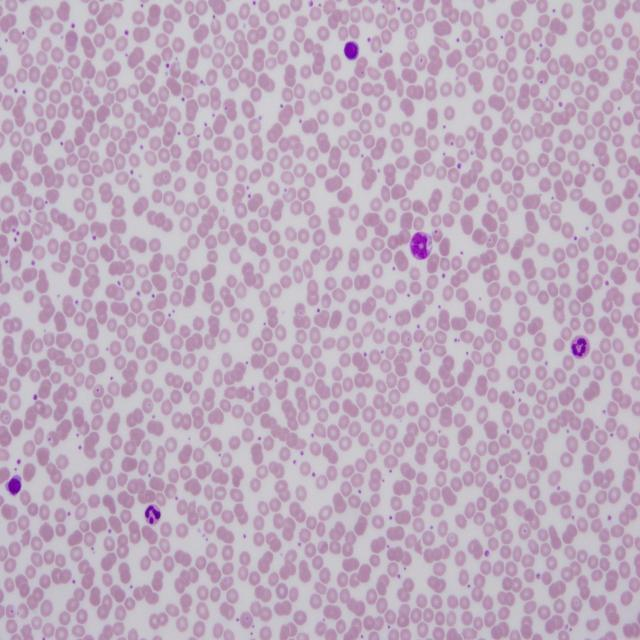cell: (571, 336, 590, 357), (145, 505, 161, 524)
